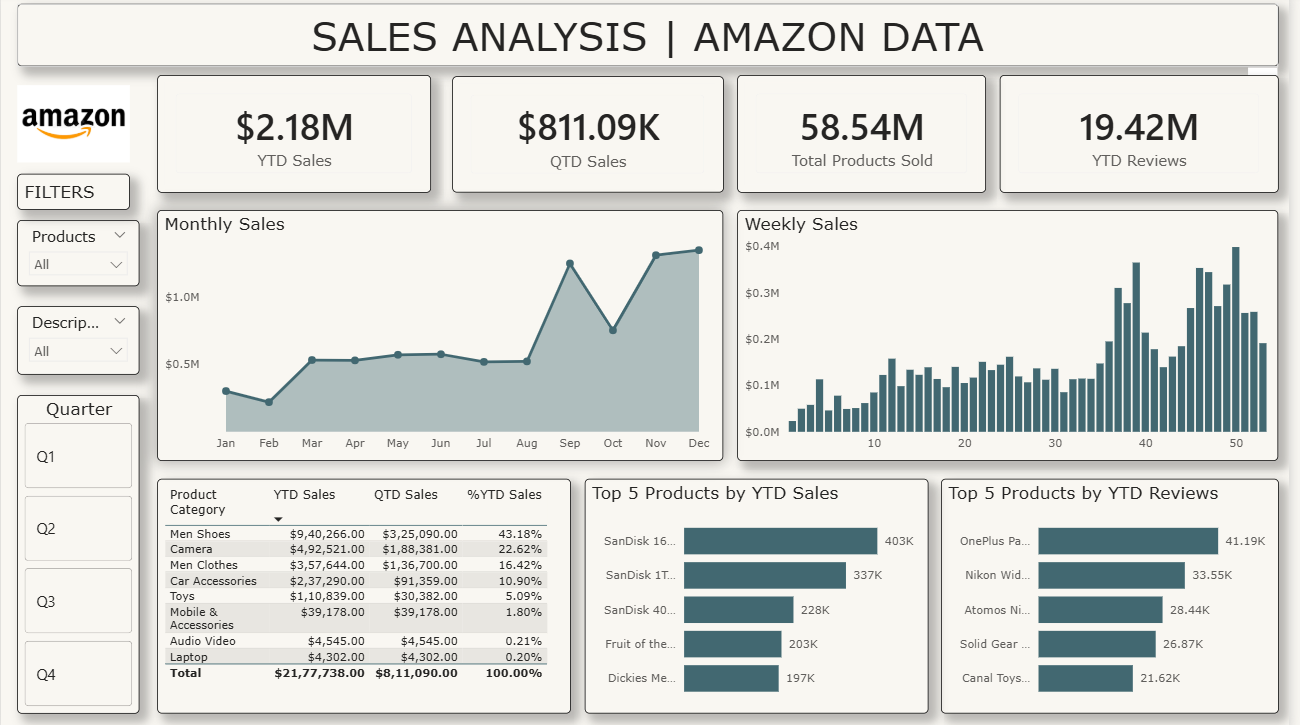

Layout of this report page (visuals, bound fields, positions):
{"tool":"powerbi","page":{"name":"Page 1","canvas":[1400,800],"ordinal":0},"visuals":[{"type":"textbox","box":[17.7,9.5,1370.9,67.9],"z":0},{"type":"cardVisual","fields":{"Data":["Amazon_Data.YTD Sales"]},"box":[169.8,87,297.6,127.7],"z":1000},{"type":"cardVisual","fields":{"Data":["Amazon_Data.QTD Sales"]},"box":[490.5,88.3,294.8,126.4],"z":2000},{"type":"cardVisual","fields":{"Data":["Amazon_Data.YTD Reviews"]},"box":[1085.6,87,303,127.7],"z":3000},{"type":"cardVisual","fields":{"Data":["Amazon_Data.Total Products Sold"]},"box":[800.3,87,270.4,127.7],"z":4000},{"type":"tableEx","fields":{"Values":["Amazon_Data.Product Category","Amazon_Data.YTD Sales","Amazon_Data.QTD Sales","Divide(Amazon_Data.YTD Sales, ScopedEval(Amazon_Data.YTD Sales, []))"]},"box":[169.8,525.8,449.7,255.4],"z":5000},{"type":"barChart","title":"Top 5 Products by YTD Reviews","fields":{"Y":["Amazon_Data.YTD Sales"],"Category":["Amazon_Data.Product Description"]},"box":[1021.7,525.8,366.8,255.4],"z":6000},{"type":"barChart","title":"Top 5 Products by YTD Sales","fields":{"Category":["Amazon_Data.Product Description"],"Y":["Amazon_Data.YTD Reviews"]},"box":[634.5,525.8,373.6,255.4],"z":7000},{"type":"columnChart","title":"Weekly Sales","fields":{"Category":["Date Table.Week Number"],"Y":["Sum(Amazon_Data.Price(Dollar))"]},"box":[800.3,233.7,588.3,273.1],"z":8000},{"type":"lineChart","title":"Monthly Sales","fields":{"Category":["Date Table.Month Name"],"Y":["Sum(Amazon_Data.Price(Dollar))"]},"box":[169.8,233.7,615.5,273.1],"z":9000},{"type":"advancedSlicerVisual","title":"Quarter","fields":{"Values":["Date Table.Qtr"]},"box":[17.7,434.8,133.2,346.5],"z":9001},{"type":"slicer","fields":{"Values":["Amazon_Data.Product Category"]},"box":[17.7,244.6,133.2,72],"z":9002},{"type":"image","box":[17.7,78.8,122.3,122.3],"z":9003},{"type":"slicer","fields":{"Values":["Amazon_Data.Product Description"]},"box":[17.7,338.3,133.2,74.7],"z":9004},{"type":"textbox","box":[17.7,194.3,122.3,39.4],"z":9005}]}

Visuals, with their boxes in screenshot pixels (x1, y1, x2, y2), scaled from the page's 1400x800 canvas onto the 1300x725 screenshot:
textbox: box=[16, 9, 1289, 70]
cardVisual - Amazon_Data.YTD Sales: box=[158, 79, 434, 195]
cardVisual - Amazon_Data.QTD Sales: box=[455, 80, 729, 195]
cardVisual - Amazon_Data.YTD Reviews: box=[1008, 79, 1289, 195]
cardVisual - Amazon_Data.Total Products Sold: box=[743, 79, 994, 195]
tableEx - Amazon_Data.Product Category x Amazon_Data.YTD Sales: box=[158, 477, 575, 708]
"Top 5 Products by YTD Reviews" barChart: box=[949, 477, 1289, 708]
"Top 5 Products by YTD Sales" barChart: box=[589, 477, 936, 708]
"Weekly Sales" columnChart: box=[743, 212, 1289, 459]
"Monthly Sales" lineChart: box=[158, 212, 729, 459]
"Quarter" advancedSlicerVisual: box=[16, 394, 140, 708]
slicer - Amazon_Data.Product Category: box=[16, 222, 140, 287]
image: box=[16, 71, 130, 182]
slicer - Amazon_Data.Product Description: box=[16, 307, 140, 374]
textbox: box=[16, 176, 130, 212]
